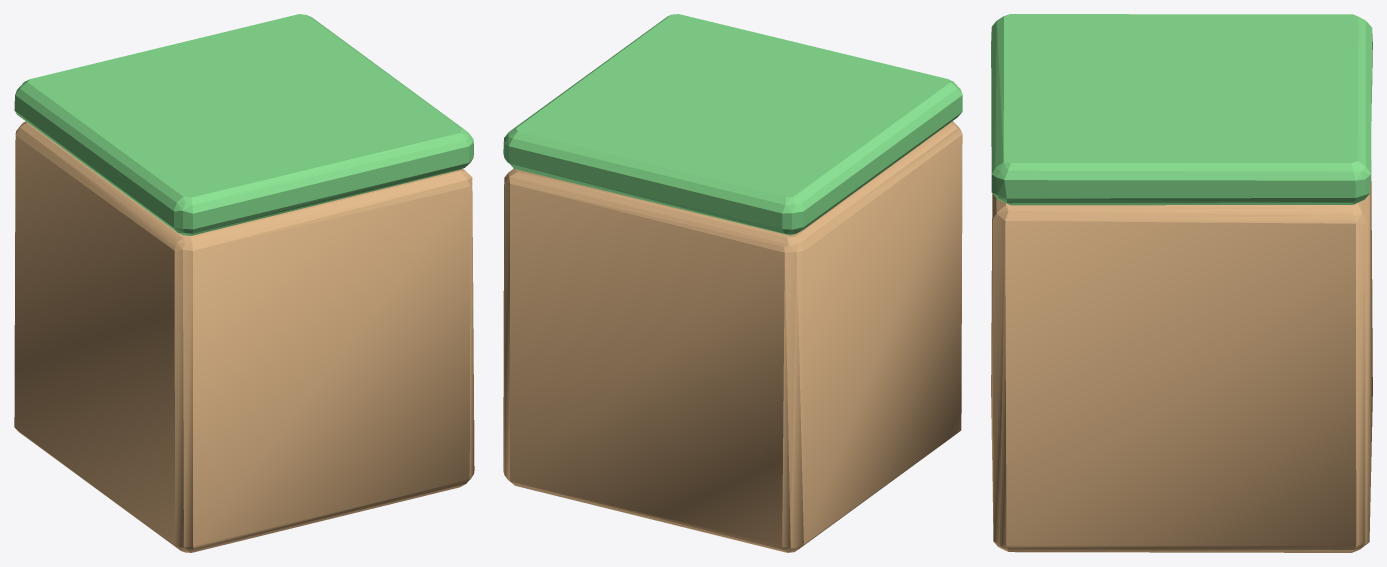
Rendered from floor.fbx.
The picture shows the model from 3 angles, left to right: view 1: azimuth 30°, elevation 25°; view 2: azimuth 150°, elevation 25°; view 3: azimuth 270°, elevation 25°; orthographic projection. The views are drawn at different scales.
Visible parts, largest first — view 1: Base, Top_2; view 2: Base, Top_2; view 3: Base, Top_2.
Boxes of the visible parts, box(x1,y1,x2,y2) form: Base: box(14, 121, 474, 552); Top_2: box(14, 14, 473, 235); Base: box(503, 121, 962, 552); Top_2: box(503, 14, 962, 235); Base: box(991, 160, 1372, 552); Top_2: box(991, 14, 1372, 205).
Bounding box in the file's own units: 99.47 × 112 × 99.67.
